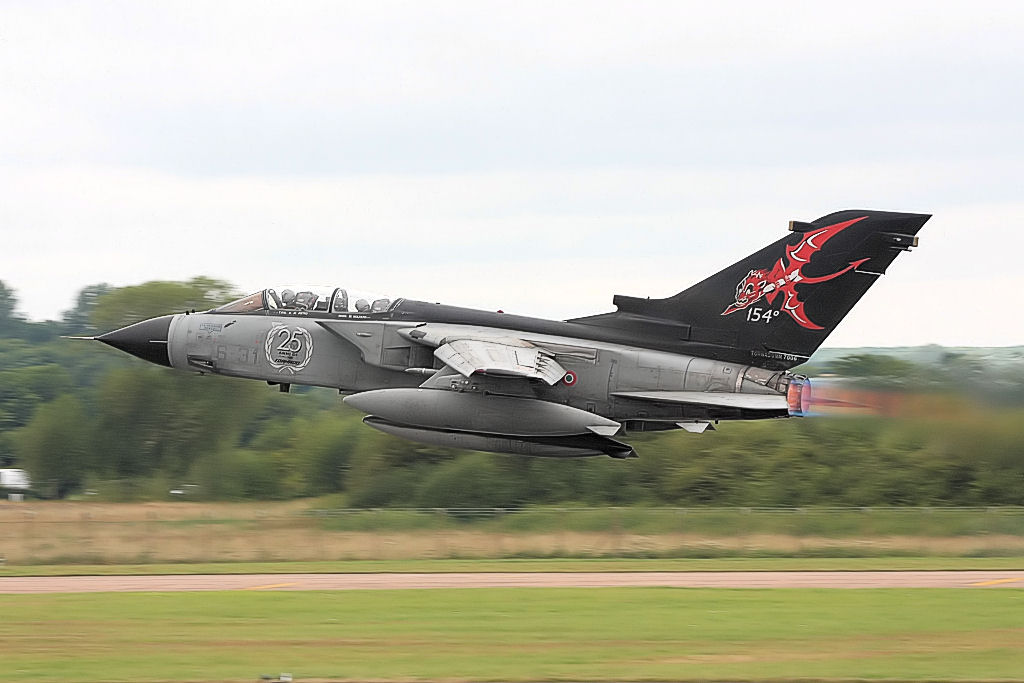Tornado: (58, 209, 934, 460)
